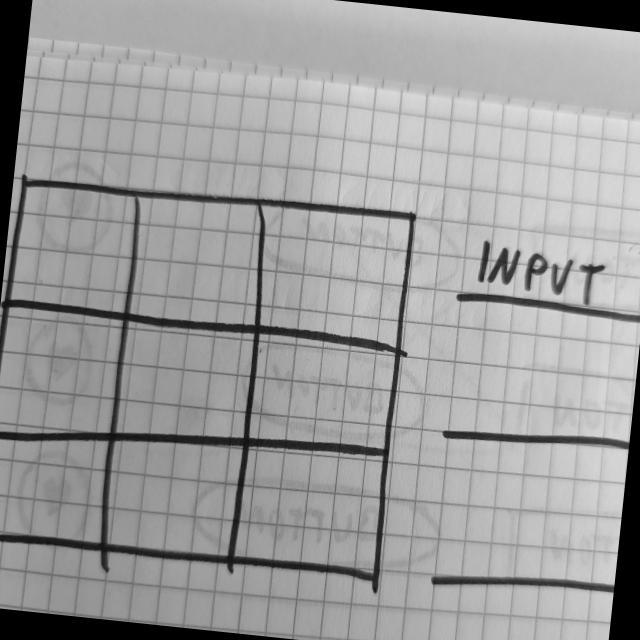input: (449, 232, 640, 327)
number-input: (438, 359, 637, 465)
select: (427, 510, 621, 612)
table: (1, 163, 423, 595)
